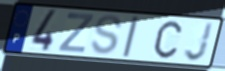4: (30, 8, 58, 54)
C: (153, 19, 183, 60)
I: (121, 15, 140, 58)
J: (183, 21, 216, 63)
S: (89, 14, 124, 57)
Z: (56, 11, 96, 54)
